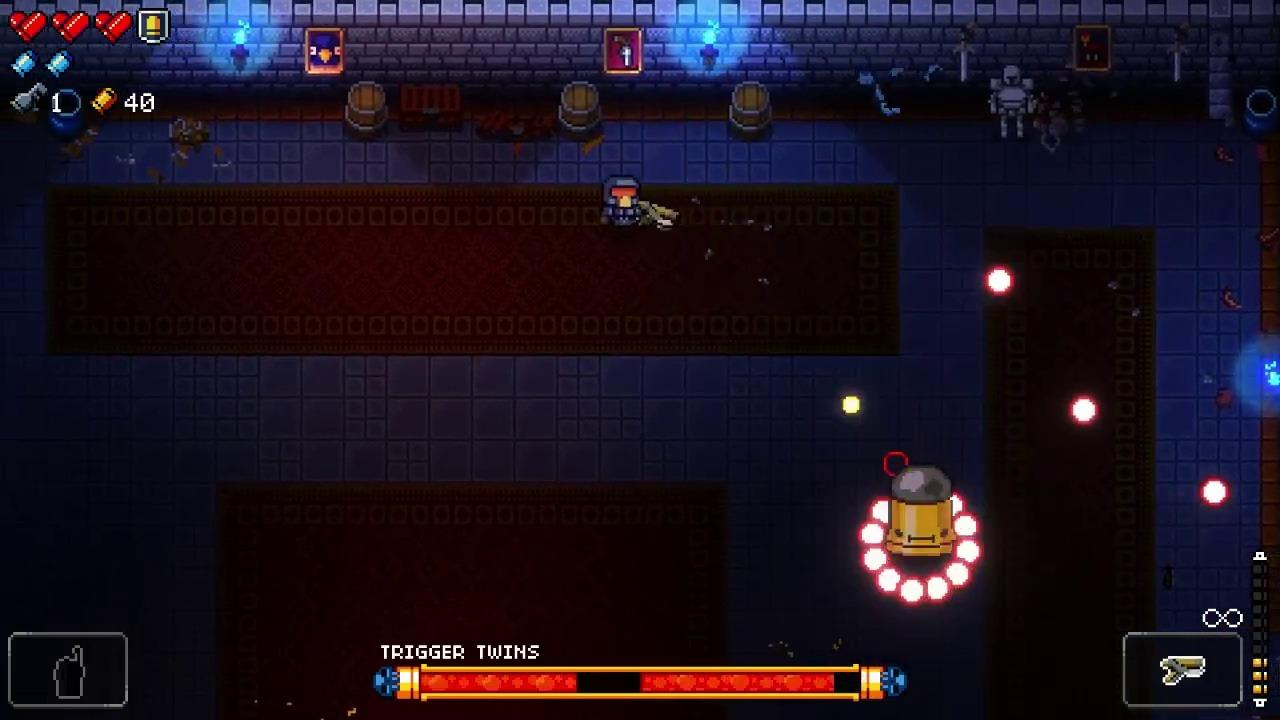boss_smiley: (886, 470, 958, 559)
bullet: (980, 264, 1015, 300), (857, 521, 892, 554), (919, 574, 954, 605), (897, 577, 928, 612), (1068, 394, 1100, 426), (875, 566, 904, 601), (858, 545, 890, 576), (952, 537, 982, 569), (1199, 478, 1229, 509), (952, 515, 982, 544), (944, 560, 973, 588), (868, 498, 896, 526)
player: (603, 178, 641, 230)
